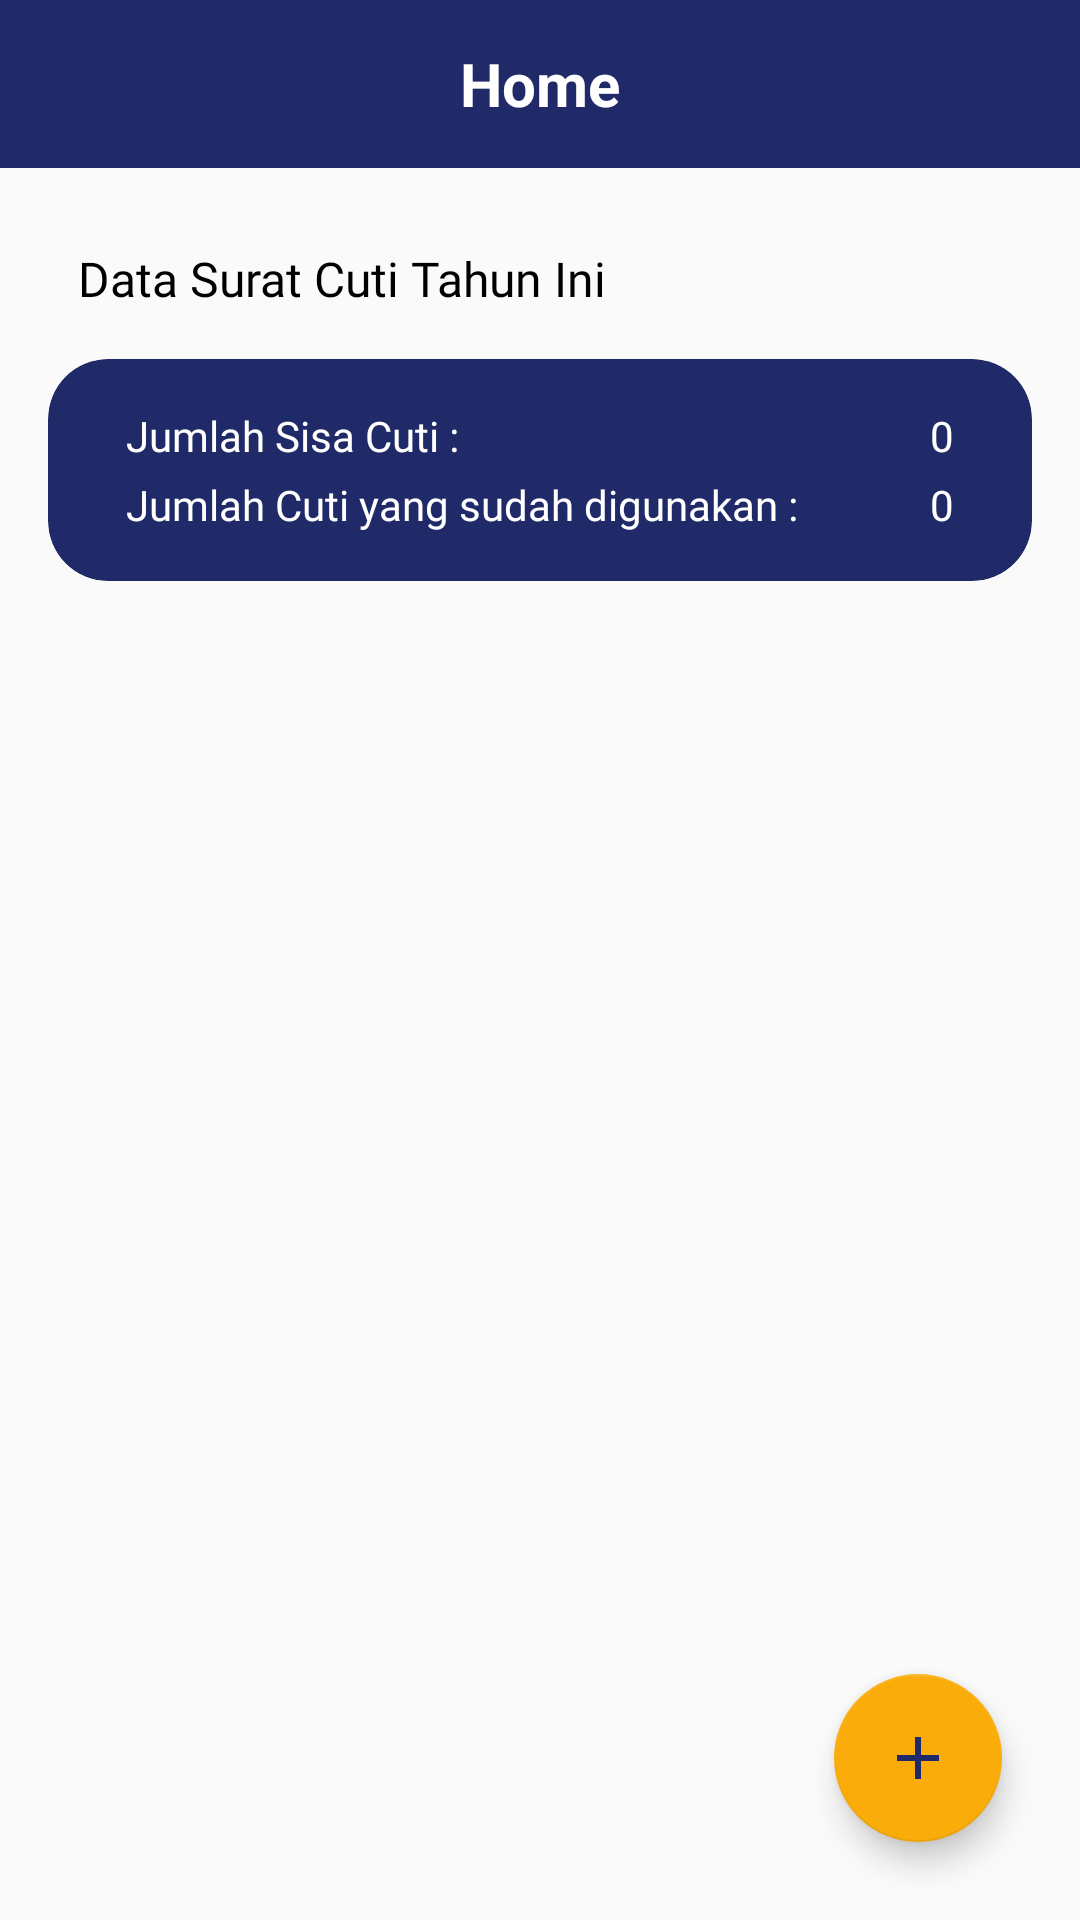

Icons on this 1080×1920 Android screen, each with its box as rect(x1, y1, x2, y2):
add: rect(834, 1674, 1002, 1842)
